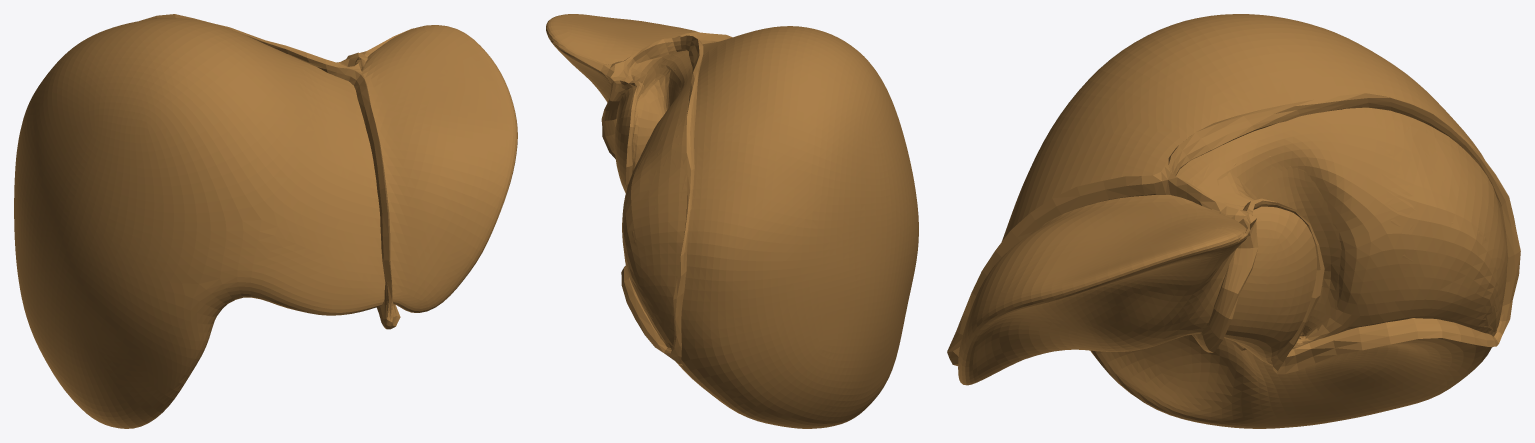
The model's file is liver.glb.
The picture shows the model from 3 angles, left to right: view 1: azimuth 30°, elevation 25°; view 2: azimuth 150°, elevation 25°; view 3: azimuth 270°, elevation 25°; orthographic projection. The views are drawn at different scales.
Visible parts, largest first — view 1: liver; view 2: liver; view 3: liver.
Boxes of the visible parts, x1,y1,x2,y2 form: liver: (14, 14, 517, 428); liver: (546, 14, 918, 428); liver: (947, 14, 1520, 428).
Bounding box in the file's own units: 0.1914 × 0.1746 × 0.2018.
